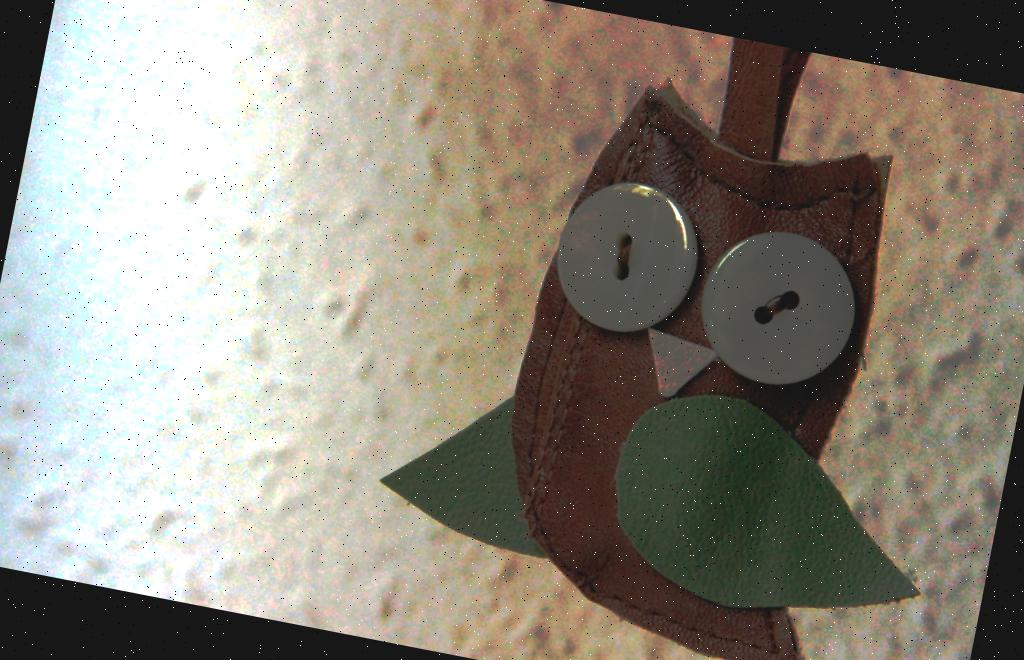Owl: (358, 36, 1010, 660)
